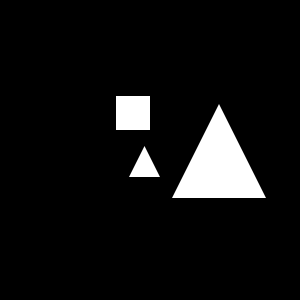circle: (116, 96, 150, 130)
triangle: (172, 104, 266, 198), (129, 146, 160, 177)
